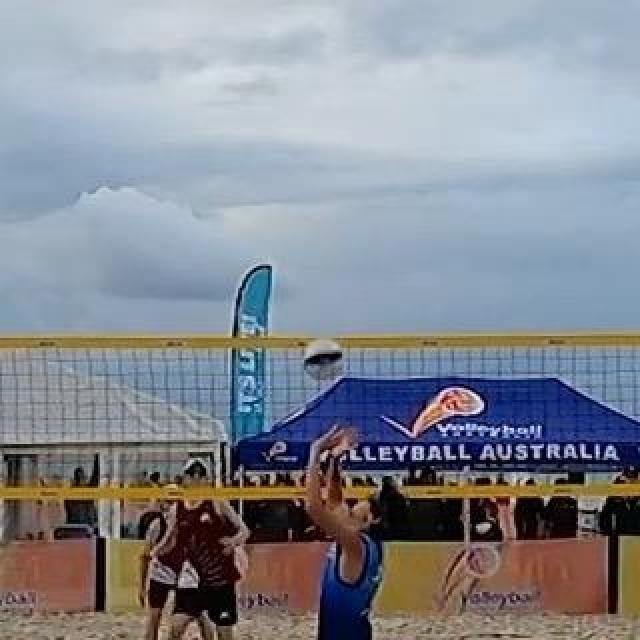volleyball: (305, 336, 345, 382)
